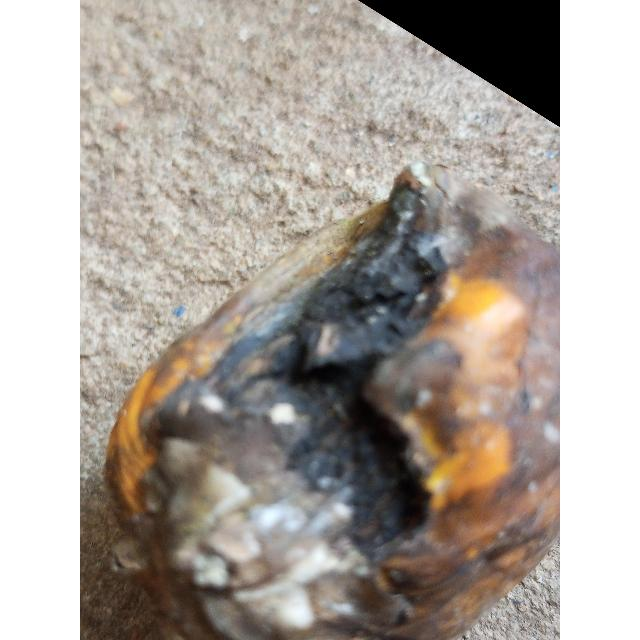damaged: (103, 163, 560, 640)
